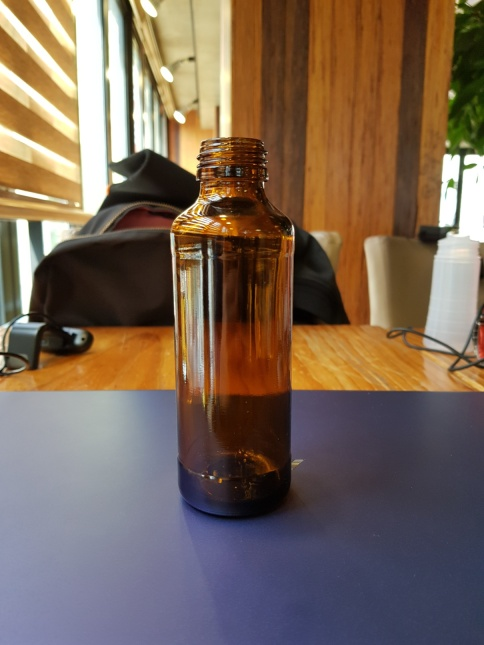Glass: (164, 137, 300, 521)
